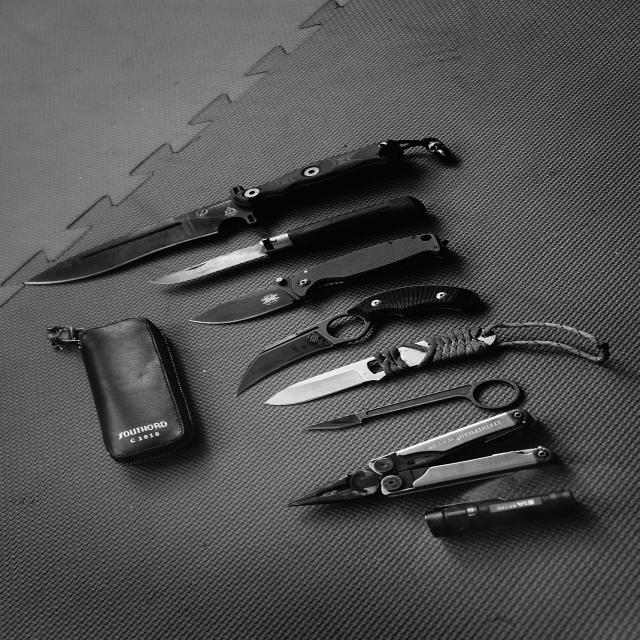knife: (24, 138, 414, 282), (150, 195, 426, 288)
